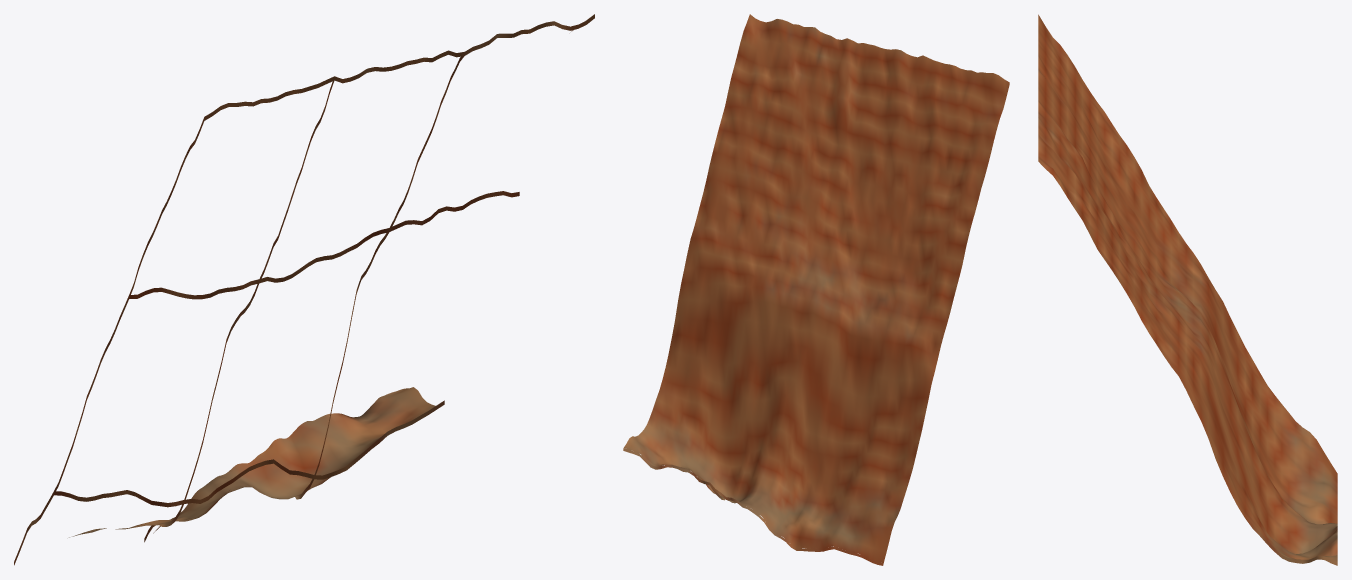
The model's file is terrain-156.glb.
3 views of the same model, side by side, from view 1: azimuth 30°, elevation 25°; view 2: azimuth 150°, elevation 25°; view 3: azimuth 270°, elevation 25° (orthographic). The views are drawn at different scales.
Parts seen in each view (by area): view 1: terrain-156; view 2: terrain-156; view 3: terrain-156.
Part boxes in pixels (bbox=[...]): terrain-156: bbox=[14, 14, 594, 565]; terrain-156: bbox=[623, 14, 1009, 565]; terrain-156: bbox=[1038, 14, 1337, 565].
Bounding box in the file's own units: 384 × 572 × 324.
